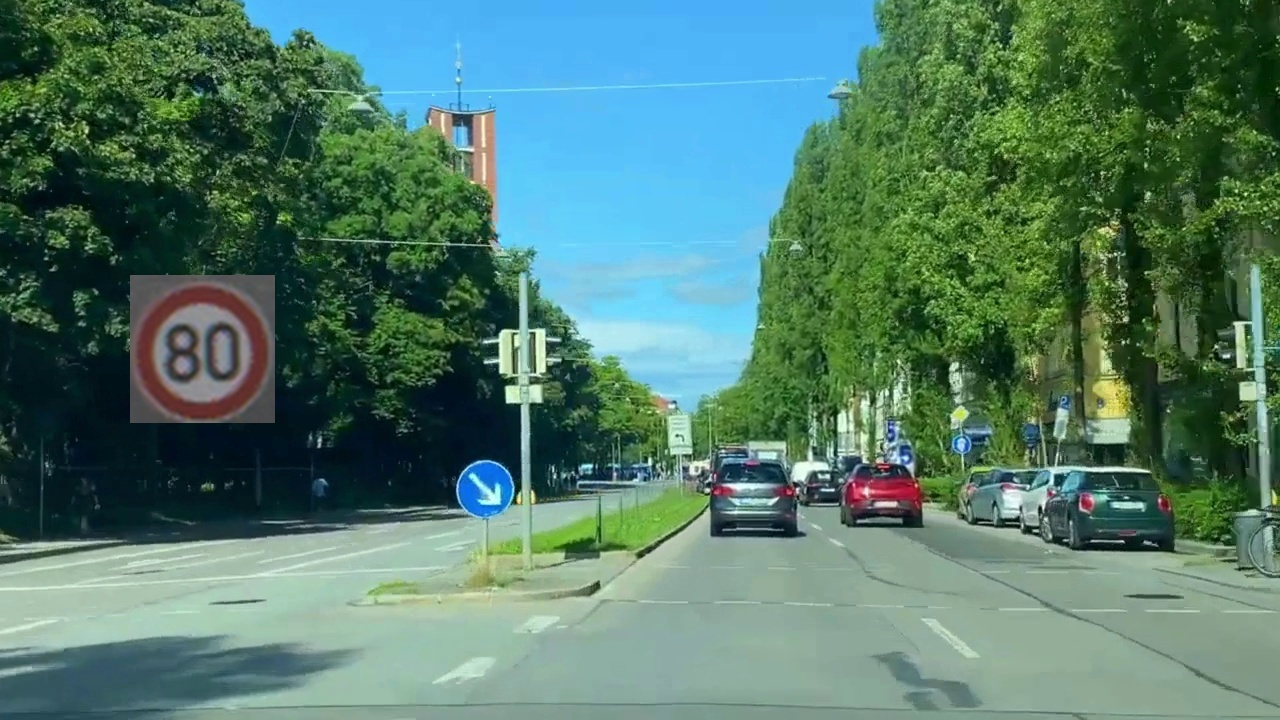Speed 80: (130, 275, 275, 423)
